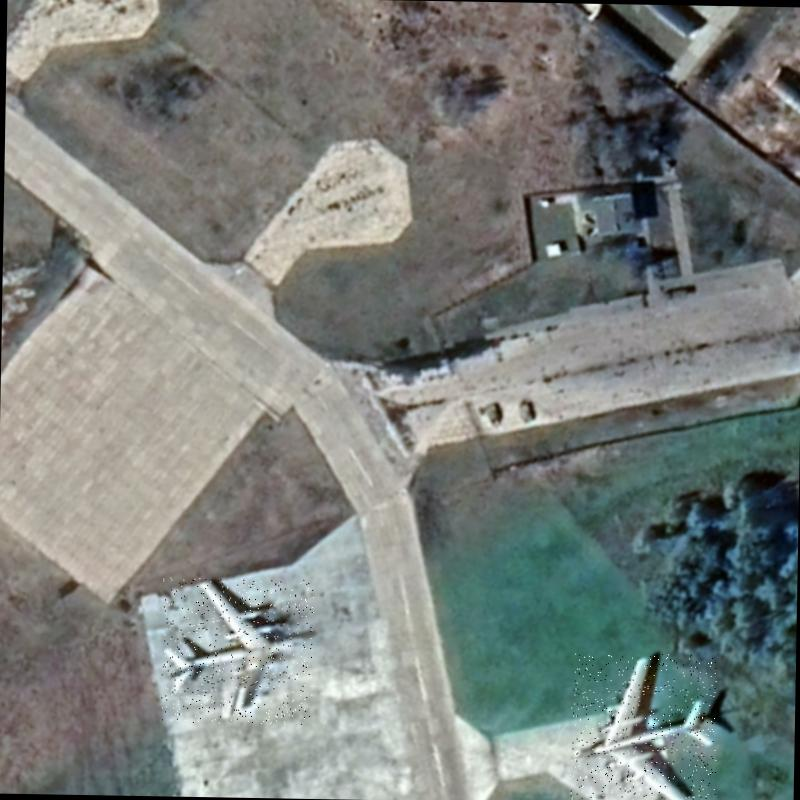A17: (160, 576, 314, 724), (569, 652, 718, 800)
